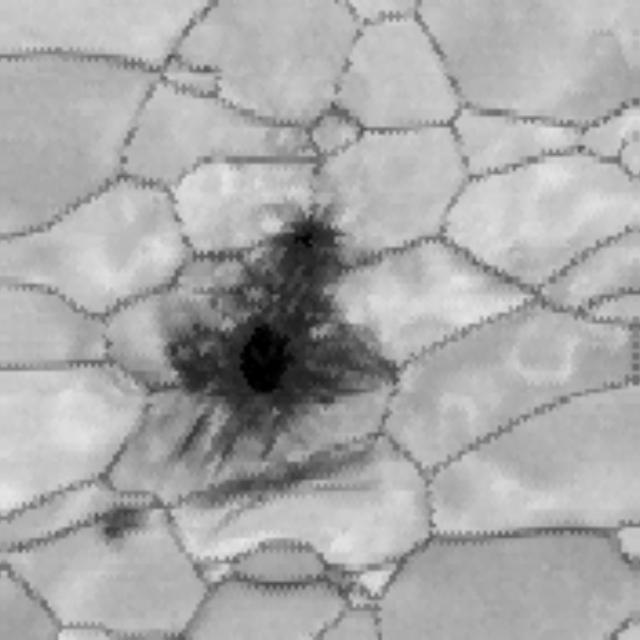good_void: (145, 199, 407, 476), (188, 432, 397, 534), (89, 498, 163, 551), (567, 137, 597, 163), (301, 160, 333, 182)
